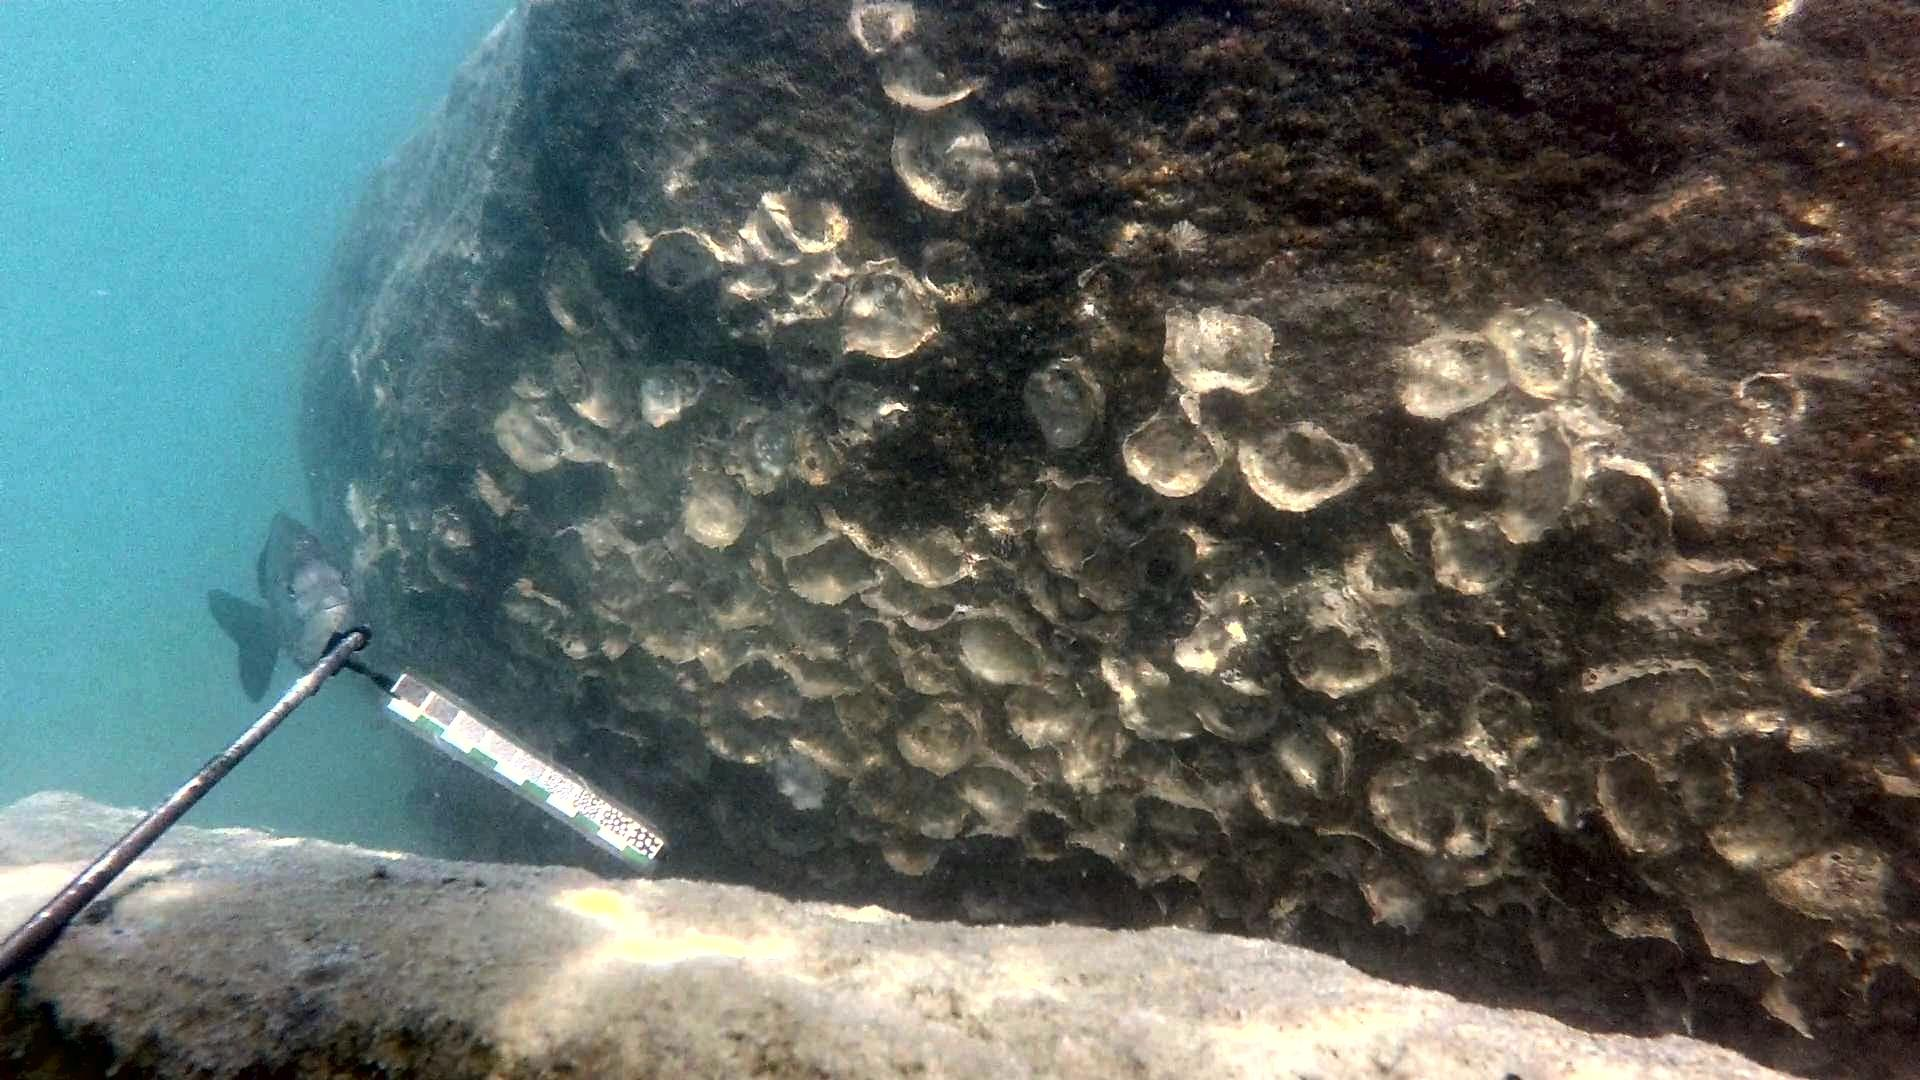acanthopagrus palmaris: (198, 502, 372, 713)
